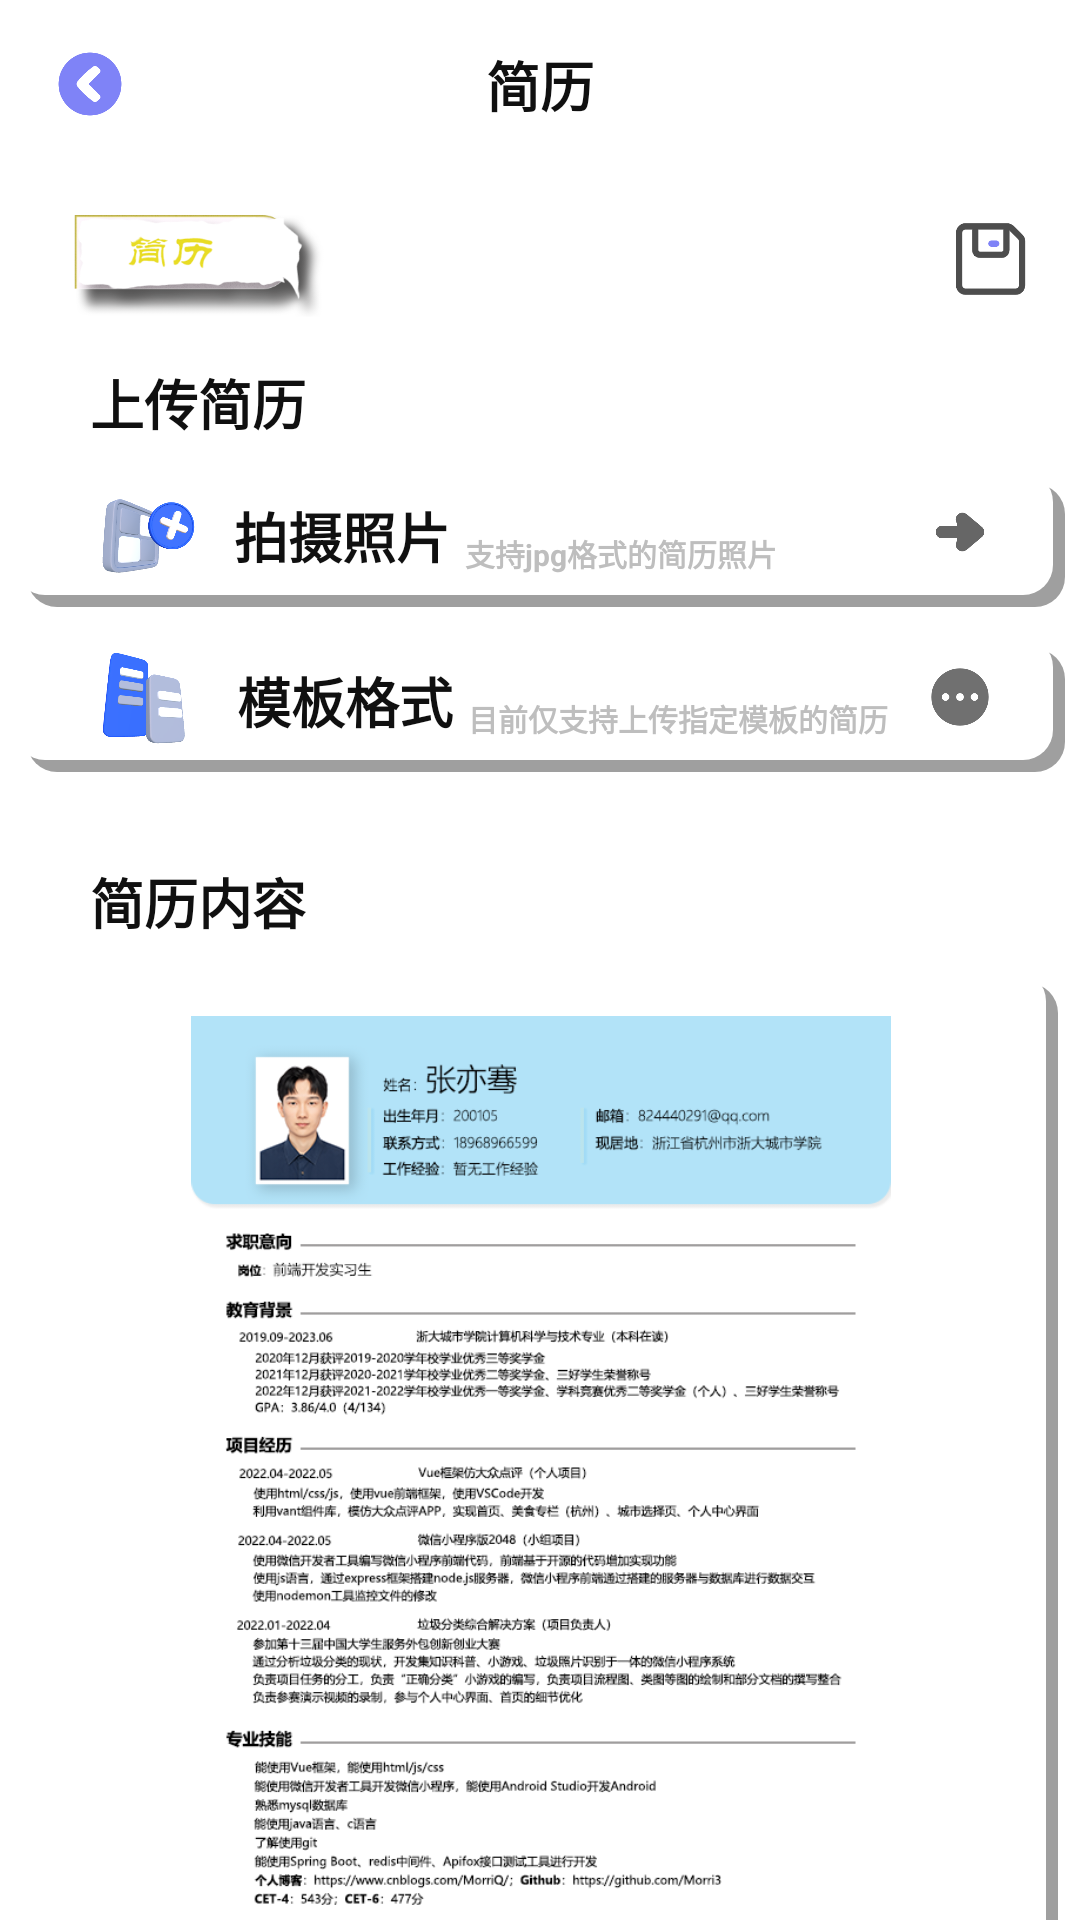

Screen size 1080*1920. Icon name, then its box in pixels as (x1, y1, x2, y2):
back: (58, 52, 122, 116)
resume template: (103, 653, 185, 743)
resume upload: (102, 499, 194, 573)
right: (936, 512, 984, 552)
save: (956, 223, 1026, 295)
template detail: (931, 668, 989, 726)
